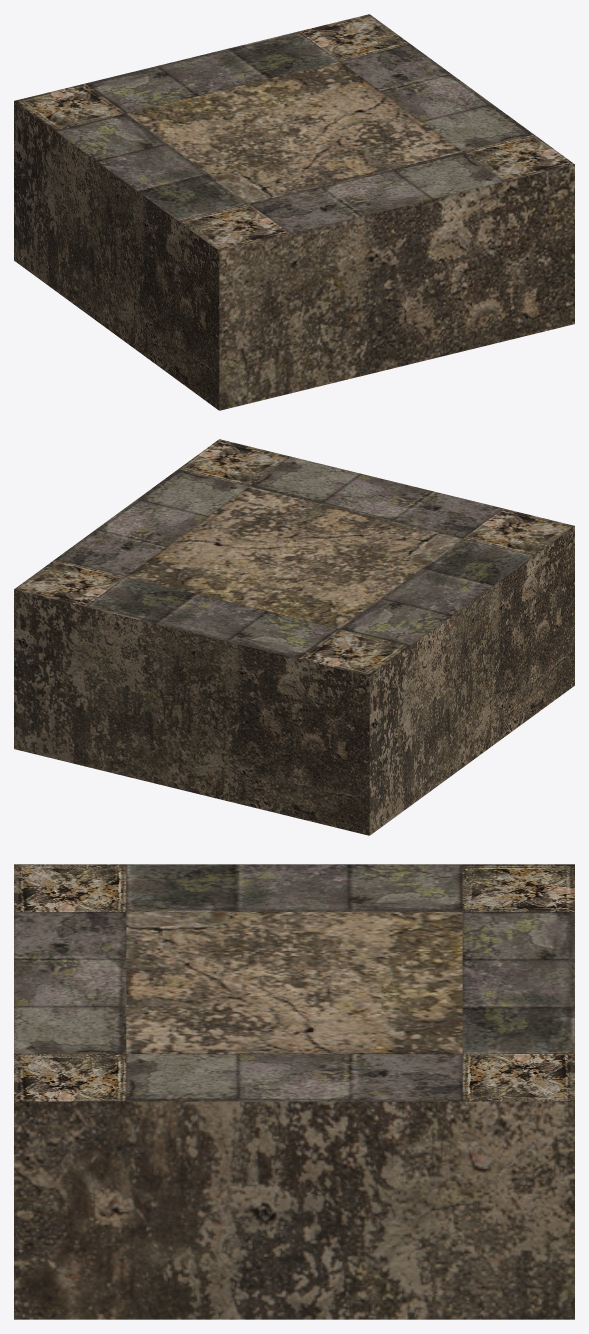
Rendered from materials_5_floor_rectangle_2.fbx.
3 views of the same model, one above another, from view 1: azimuth 30°, elevation 25°; view 2: azimuth 150°, elevation 25°; view 3: azimuth 270°, elevation 25° (orthographic). The views are drawn at different scales.
Visible parts, largest first — view 1: materials_5_floor_rectangle_2; view 2: materials_5_floor_rectangle_2; view 3: materials_5_floor_rectangle_2.
Boxes of the visible parts, left/top/right/bottom form: materials_5_floor_rectangle_2: left=14, top=14, right=574, bottom=410; materials_5_floor_rectangle_2: left=14, top=439, right=574, bottom=835; materials_5_floor_rectangle_2: left=14, top=864, right=574, bottom=1319.
Size of the model in its own units: 100 by 42.89 by 100.
